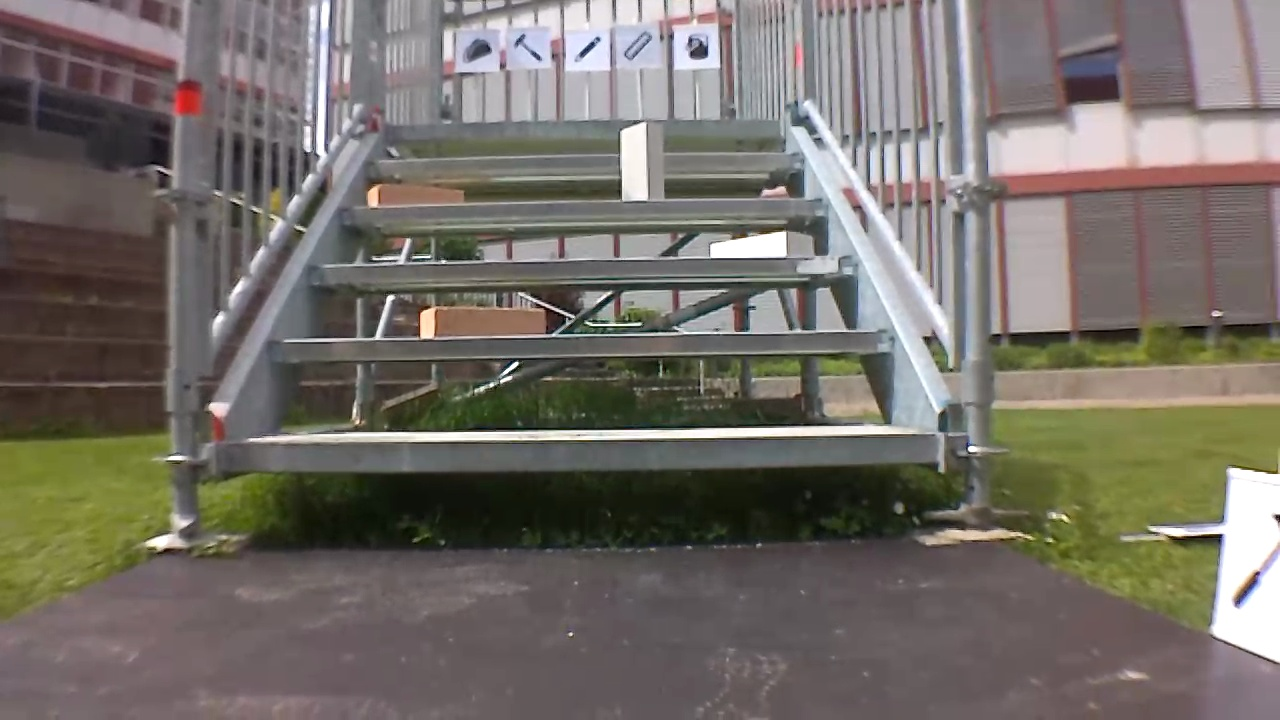brick: (420, 308, 543, 337), (622, 122, 664, 201), (710, 230, 812, 257), (366, 184, 460, 206)
bucket: (678, 30, 715, 64)
edge: (224, 433, 935, 471), (270, 329, 888, 356), (312, 255, 860, 281), (341, 197, 828, 220), (381, 118, 780, 139), (367, 153, 804, 172)
hammer: (510, 29, 546, 65)
pencil: (567, 32, 605, 66)
ruler: (621, 28, 654, 63)
stairs: (155, 1, 1017, 536)
steps: (208, 111, 942, 479)
taco: (457, 33, 494, 65)
